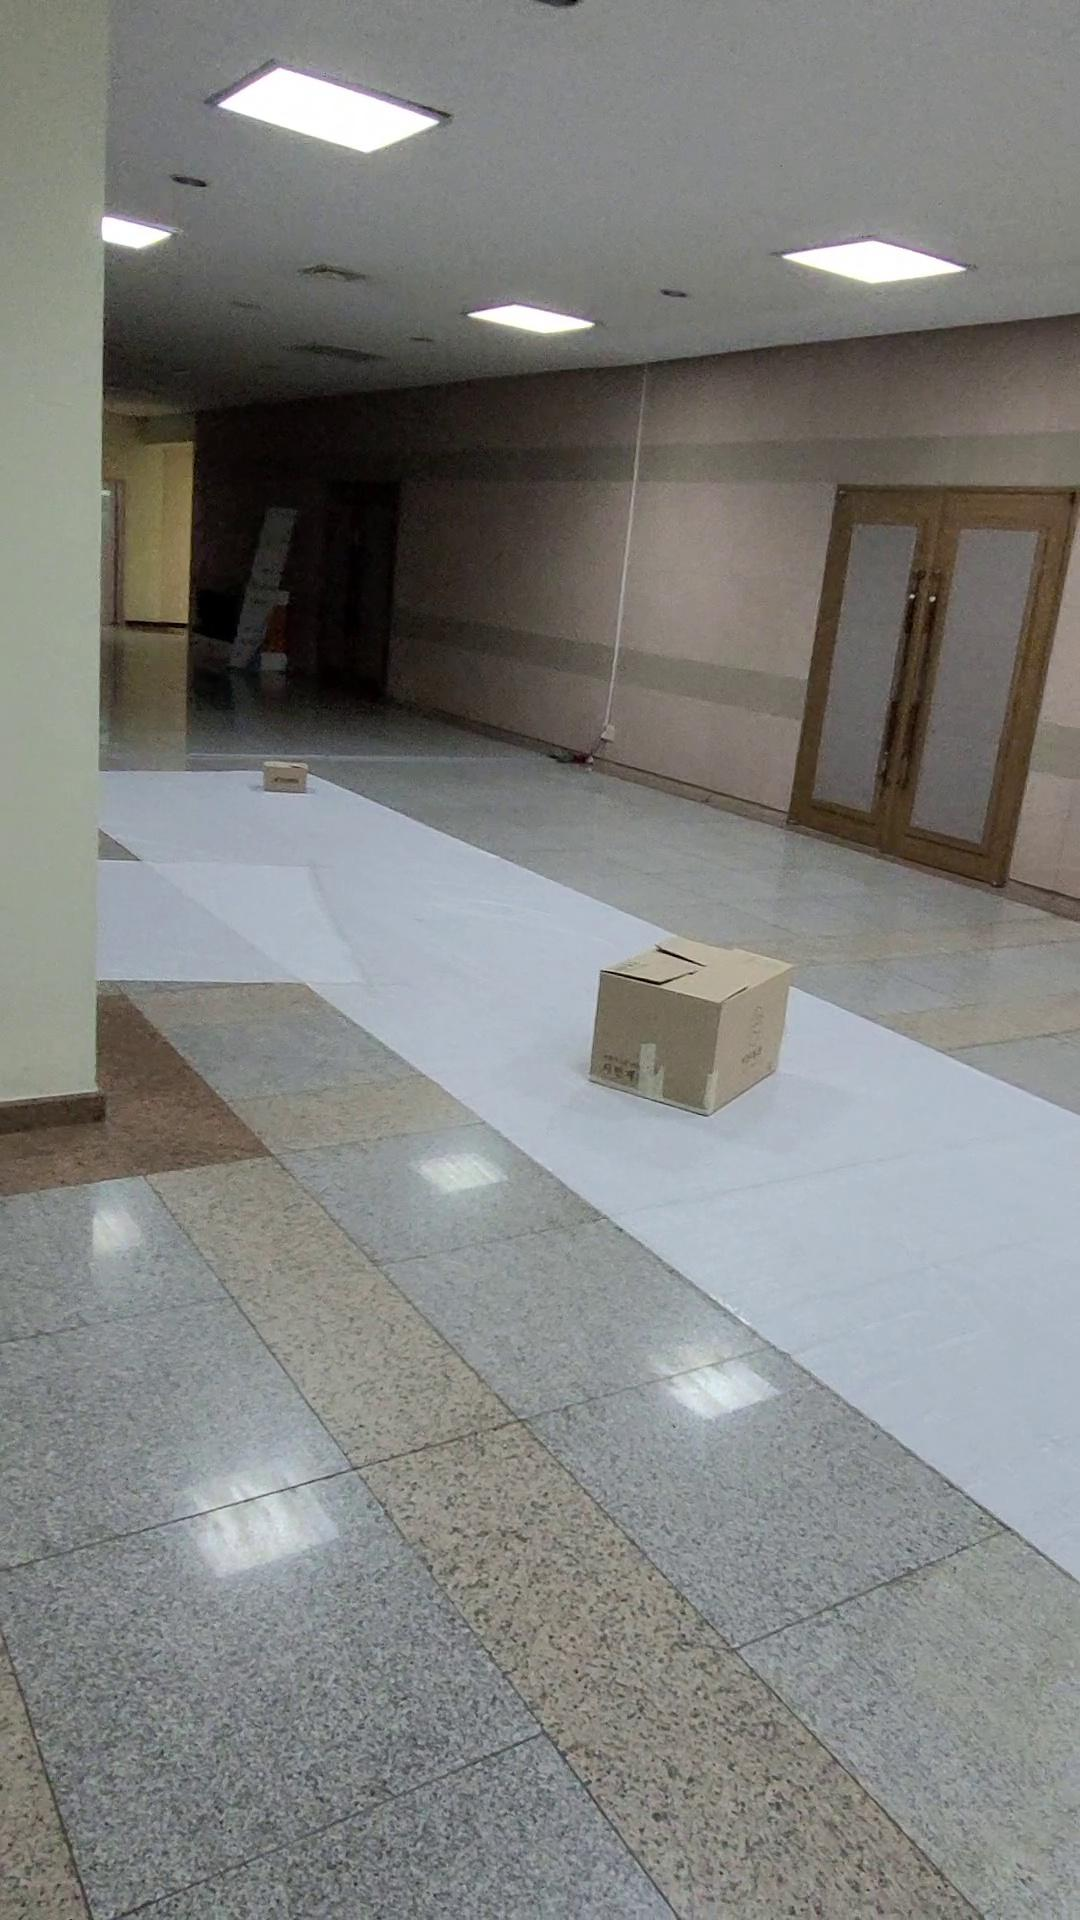Box: (566, 913, 818, 1127)
